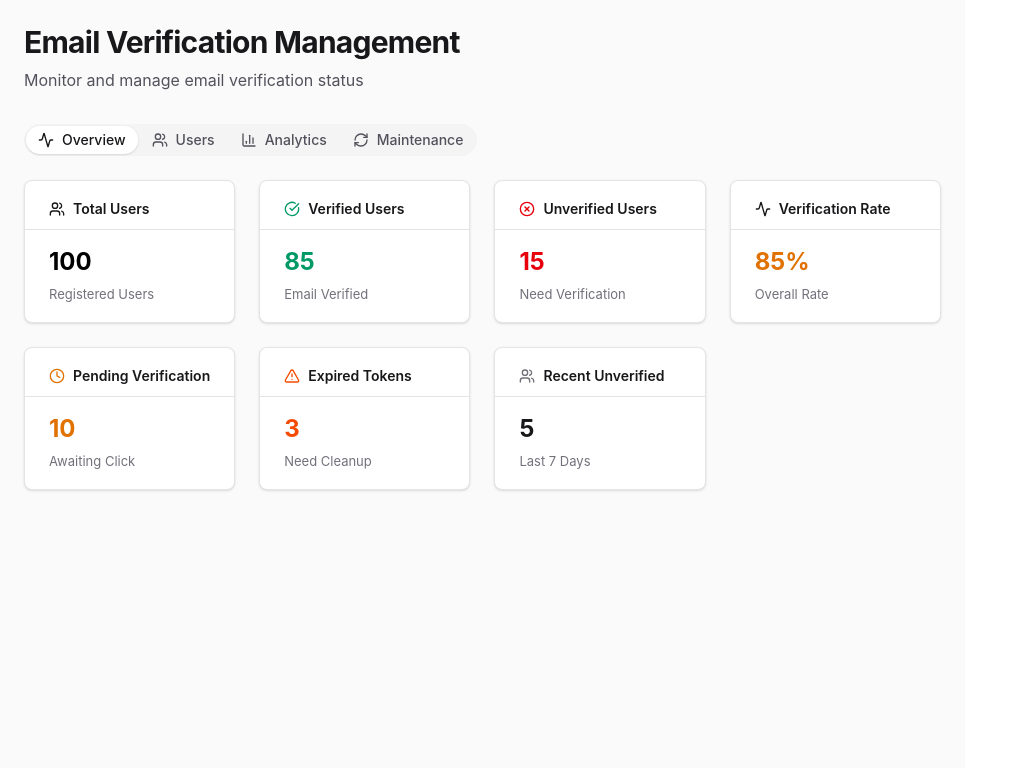
Test: EmailVerificationManagement › Users Tab › should handle resend verification failure
The width and height of the screenshot is (1024, 768).
Expected: the heading "Total Users" is shown, [49, 200, 149, 217]
Click the button "Users" at [183, 140], box [140, 126, 227, 154]
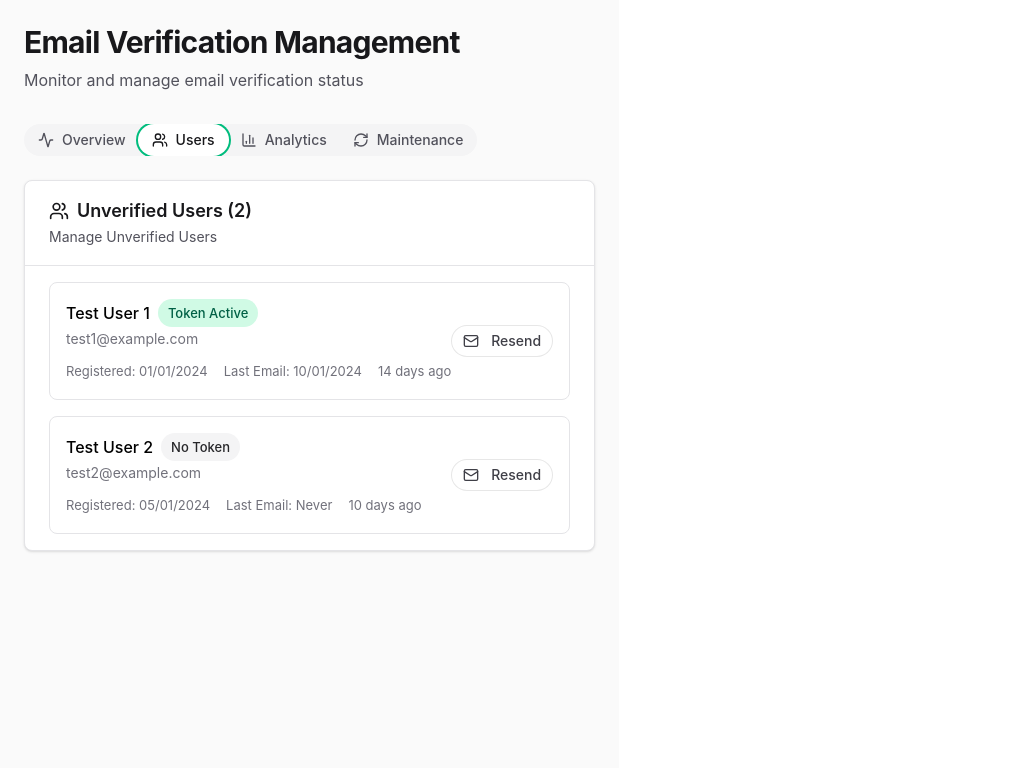
Now the heading "Test User 1" is shown, box [66, 301, 150, 325]
Click the button "Resend" in the row of "test1@example.com" at [502, 341], box [451, 325, 553, 357]
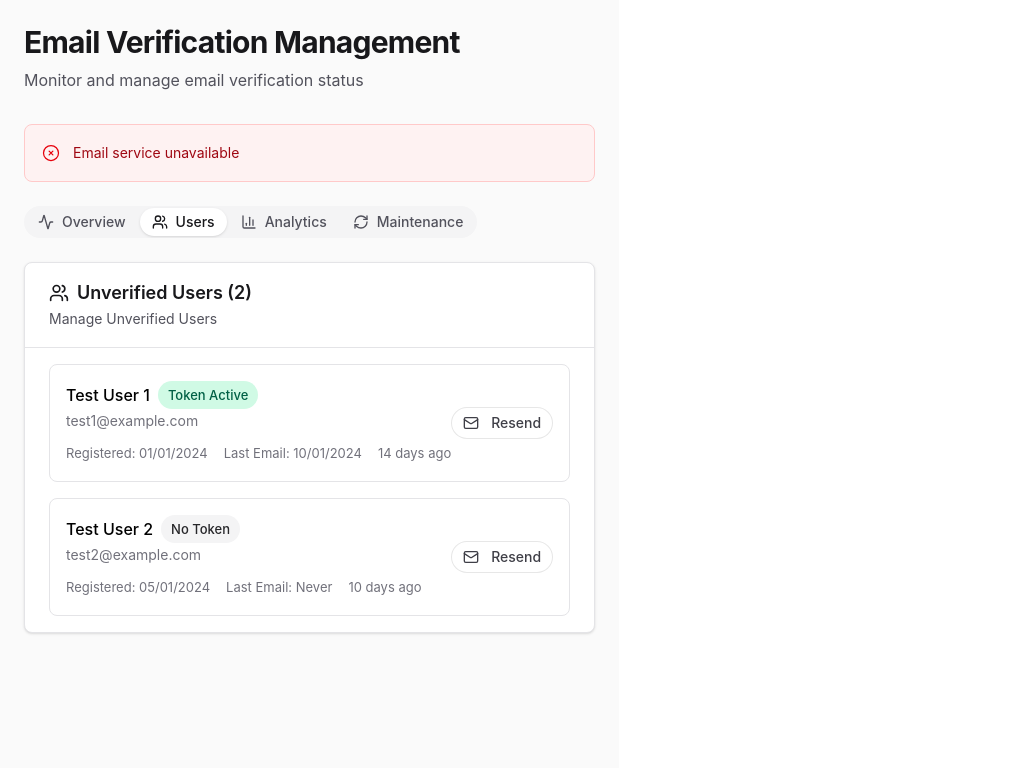
Now the text "Email service unavailable" is shown, box [73, 144, 239, 161]
